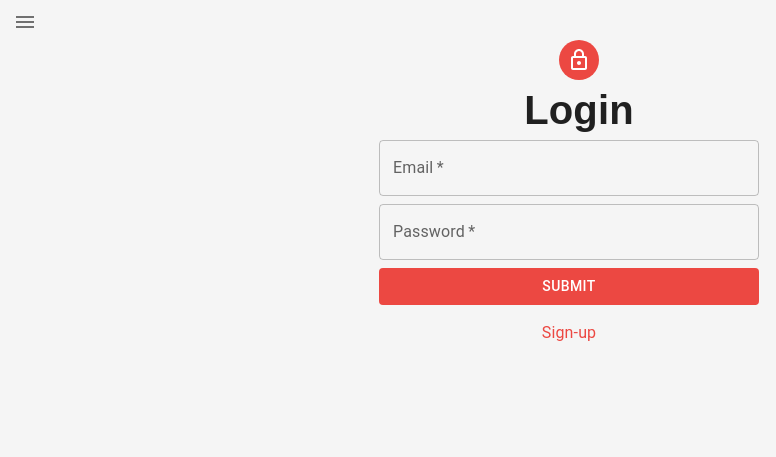
Test: login › should show an error when the user uses the wrong credentials
In the element with test id "email_input": (569, 168) [379,140,759,196], type "admin@delaware.com"
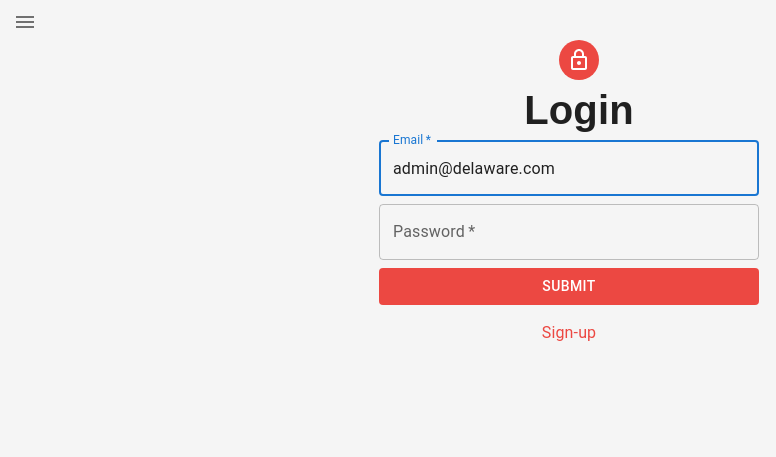
In the element with test id "password_input": (569, 232) [379,204,759,260], type "Passwordddd"
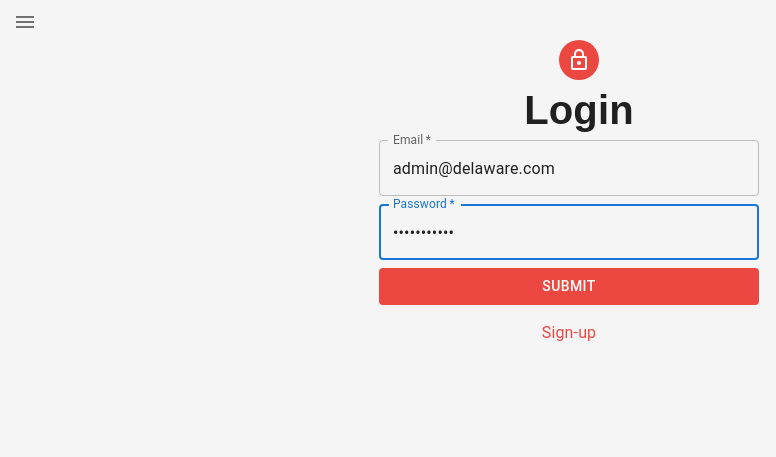
Click the button with test id "submit_btn": (569, 287) [379,268,759,305]
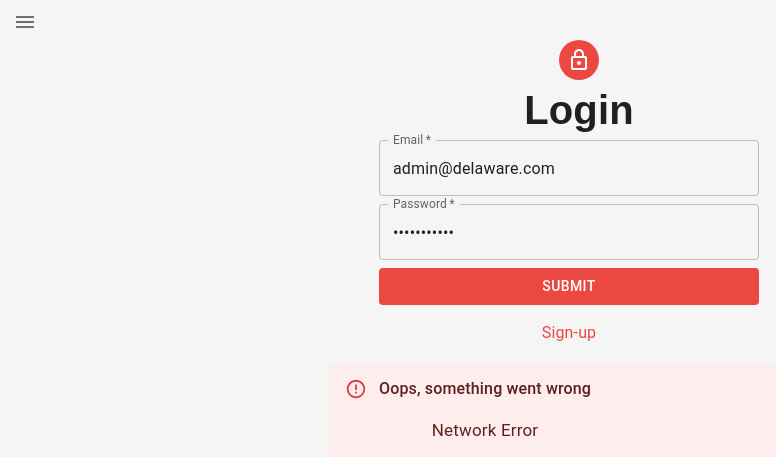
Expected: the text with test id "error-message" is shown, [432,420,539,440]
